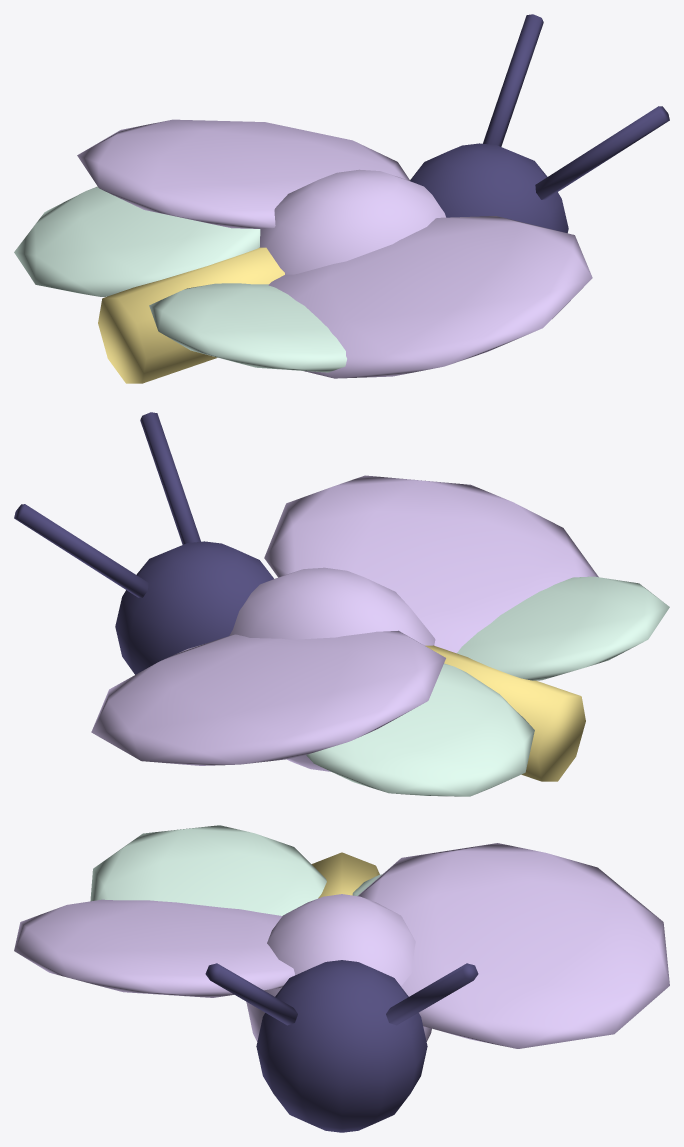
Rendered from moon_moth.glb.
3 renders of one model, top to bottom at view 1: azimuth 30°, elevation 25°; view 2: azimuth 150°, elevation 25°; view 3: azimuth 270°, elevation 25°, orthographic.
Visible parts, largest first — view 1: wing_r_front.001, wing_l_front.001, wing_l_back.001, thorax.001, wing_r_back.001, abdomen, head.003, antenna_-1.002, antenna_1.002; view 2: wing_l_front.001, wing_r_front.001, wing_l_back.001, wing_r_back.001, head.003, thorax.001, abdomen, antenna_1.002, antenna_-1.002; view 3: wing_l_front.001, head.003, wing_r_front.001, wing_r_back.001, thorax.001, antenna_-1.002, antenna_1.002, abdomen.
Part boxes in pixels (x1=…): wing_r_front.001: x1=268, y1=216, x2=592, y2=378; wing_l_front.001: x1=77, y1=119, x2=409, y2=228; wing_l_back.001: x1=14, y1=186, x2=260, y2=296; thorax.001: x1=259, y1=169, x2=445, y2=274; wing_r_back.001: x1=149, y1=283, x2=346, y2=372; abdomen: x1=98, y1=247, x2=284, y2=383; head.003: x1=410, y1=143, x2=568, y2=233; antenna_-1.002: x1=535, y1=106, x2=669, y2=199; antenna_1.002: x1=483, y1=14, x2=543, y2=146; wing_l_front.001: x1=91, y1=630, x2=445, y2=765; wing_r_front.001: x1=264, y1=475, x2=598, y2=653; wing_l_back.001: x1=306, y1=663, x2=534, y2=796; wing_r_back.001: x1=457, y1=576, x2=669, y2=680; head.003: x1=115, y1=541, x2=273, y2=674; thorax.001: x1=229, y1=567, x2=435, y2=771; abdomen: x1=425, y1=645, x2=585, y2=781; antenna_1.002: x1=14, y1=504, x2=148, y2=597; antenna_-1.002: x1=140, y1=412, x2=200, y2=544; wing_l_front.001: x1=357, y1=843, x2=669, y2=1048; head.003: x1=256, y1=960, x2=427, y2=1132; wing_r_front.001: x1=14, y1=899, x2=294, y2=997; wing_r_back.001: x1=90, y1=825, x2=326, y2=915; thorax.001: x1=246, y1=894, x2=431, y2=1041; antenna_-1.002: x1=205, y1=963, x2=297, y2=1025; antenna_1.002: x1=386, y1=963, x2=478, y2=1025; abdomen: x1=311, y1=852, x2=379, y2=898.
Size of the model in its own units: 2.19 by 1.01 by 2.45.
